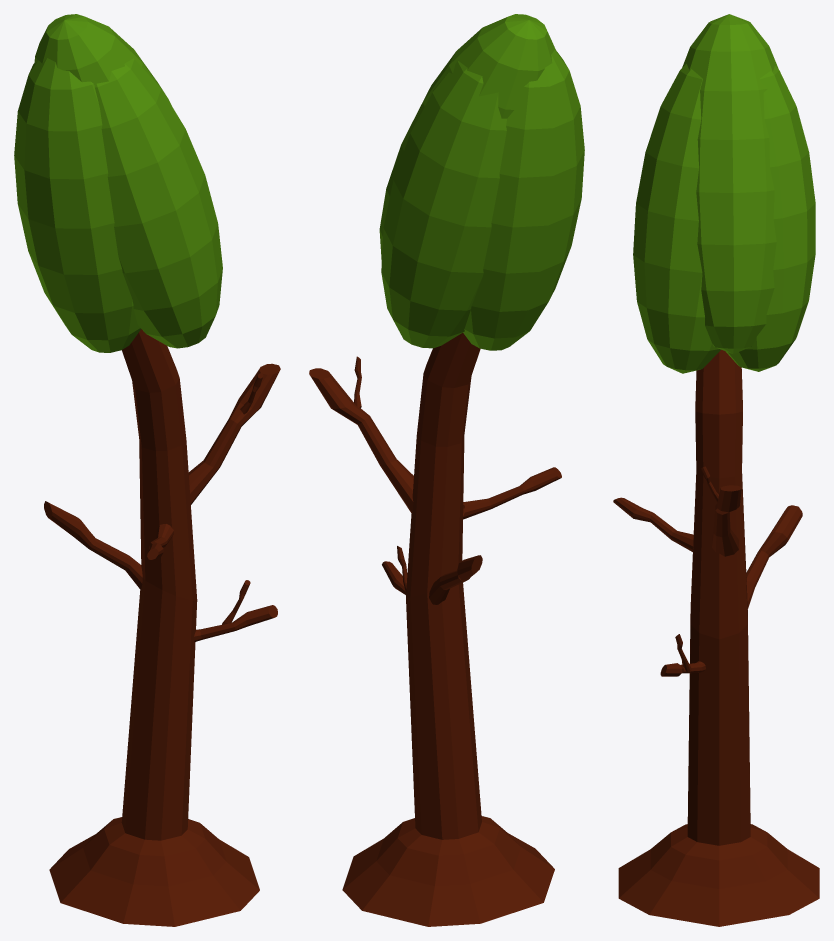
The model's file is Avore Var. 1.fbx.
3 views of the same model, side by side, from view 1: azimuth 30°, elevation 25°; view 2: azimuth 150°, elevation 25°; view 3: azimuth 270°, elevation 25° (orthographic). The views are drawn at different scales.
Parts seen in each view (by area): view 1: Arvore1; view 2: Arvore1; view 3: Arvore1.
Part boxes in pixels (box(x1,y1,x2,y2)): Arvore1: box(14, 14, 280, 926); Arvore1: box(309, 14, 584, 926); Arvore1: box(613, 14, 819, 926).
Size of the model in its own units: 188 by 607 by 137.
